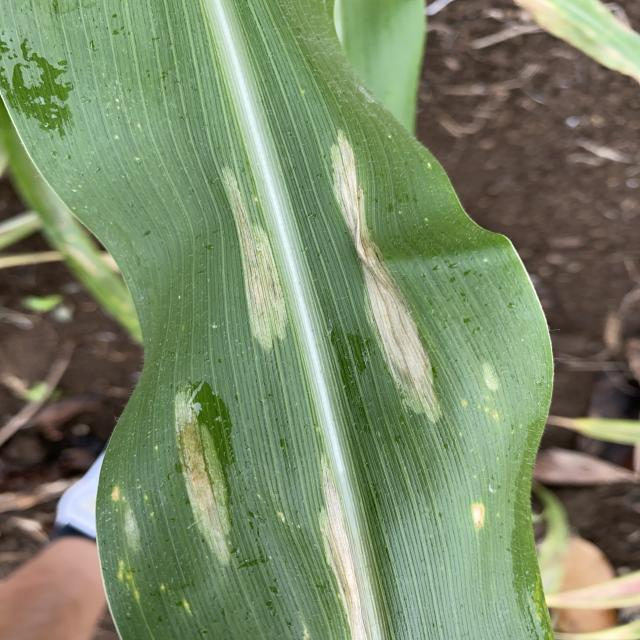Corn_Leaf_Blight: (90, 85, 551, 640)
